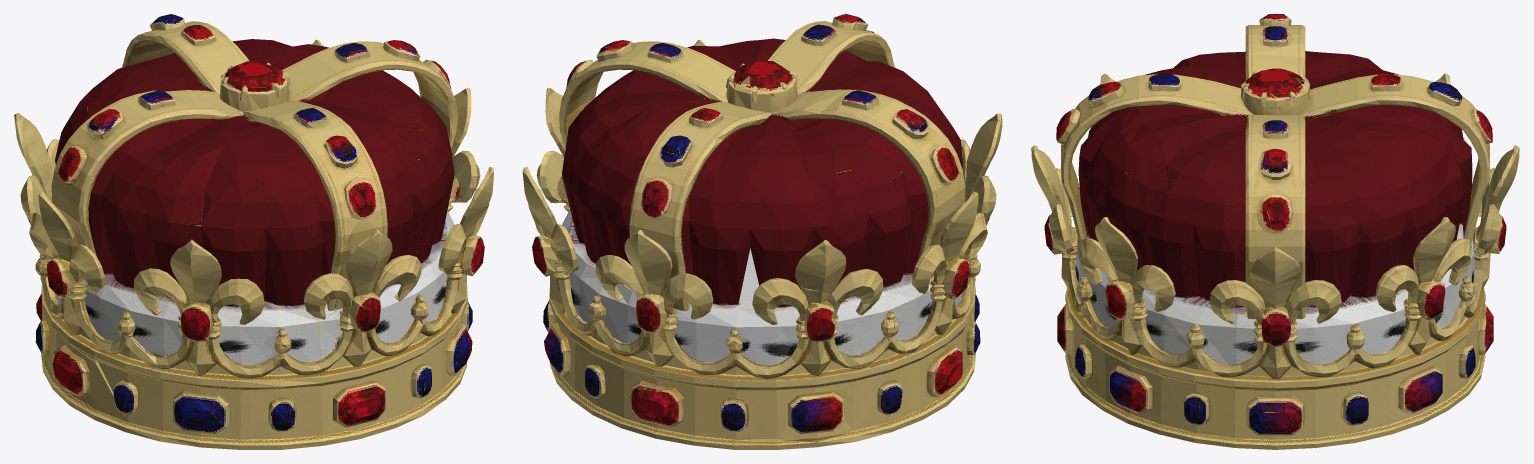
The model's file is ewm_royalcrown.glb.
3 views of the same model, side by side, from view 1: azimuth 30°, elevation 25°; view 2: azimuth 150°, elevation 25°; view 3: azimuth 270°, elevation 25° (orthographic). The views are drawn at different scales.
Parts seen in each view (by area): view 1: ewm_royalcrown; view 2: ewm_royalcrown; view 3: ewm_royalcrown.
Boxes of the visible parts, <box> form: ewm_royalcrown: <box>14,14,493,449</box>; ewm_royalcrown: <box>522,14,1002,449</box>; ewm_royalcrown: <box>1031,14,1519,449</box>.
Bounding box in the file's own units: 0.1805 × 0.1166 × 0.1805.
Materials: 1 (1 with a texture image).
